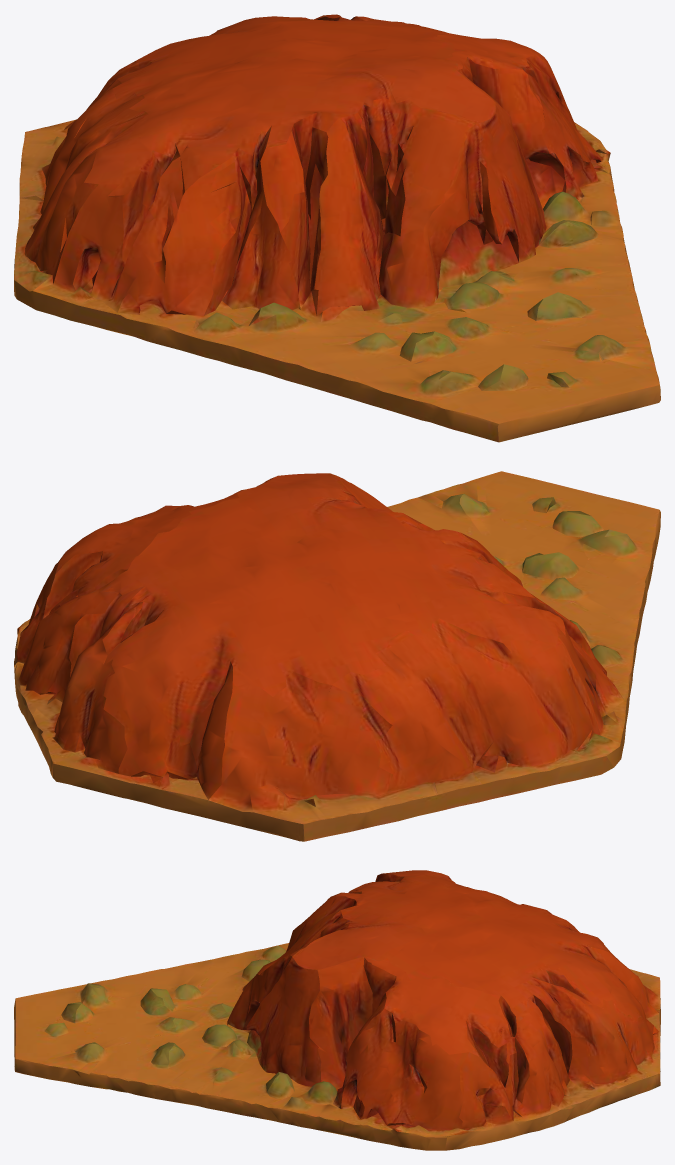
The model's file is uluru.glb.
The picture shows the model from 3 angles, top to bottom: view 1: azimuth 30°, elevation 25°; view 2: azimuth 150°, elevation 25°; view 3: azimuth 270°, elevation 25°; orthographic projection. The views are drawn at different scales.
Visible parts, largest first — view 1: logan-textured.obj; view 2: logan-textured.obj; view 3: logan-textured.obj.
Boxes of the visible parts, x1,y1,x2,y2 form: logan-textured.obj: (14,14,660,442); logan-textured.obj: (14,471,660,841); logan-textured.obj: (14,870,660,1150).
Size of the model in its own units: 0.8063 by 0.2207 by 1.
Materials: 1 (1 with a texture image).
